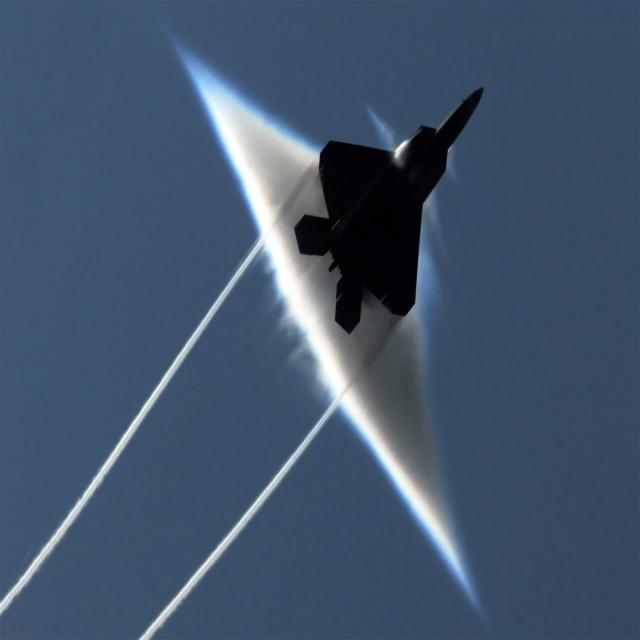MIL_Plane: (294, 85, 486, 336)
